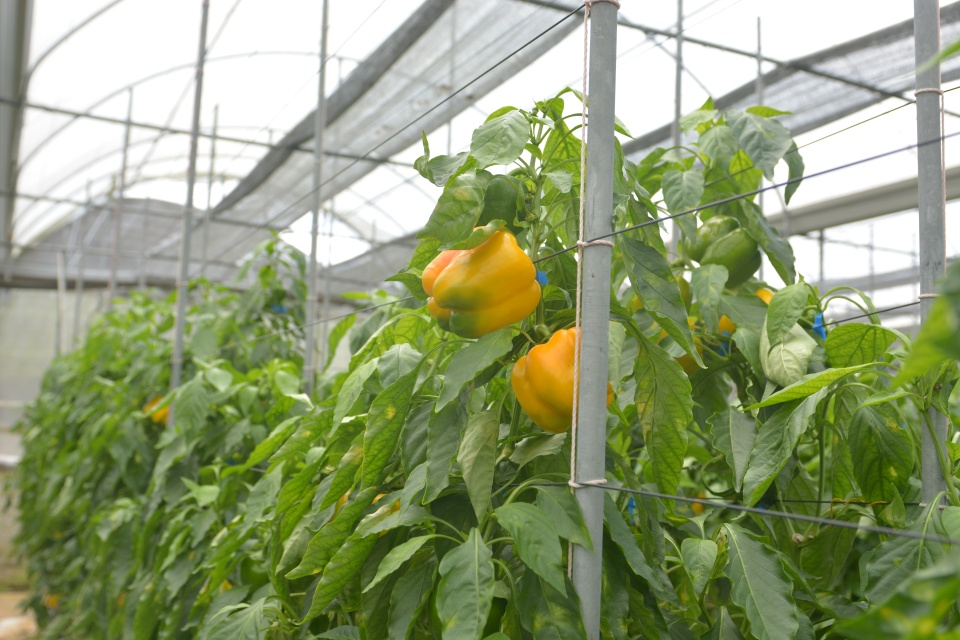fruit: (419, 224, 542, 338), (509, 323, 614, 434), (685, 215, 762, 289), (474, 172, 531, 236), (655, 317, 704, 376)
